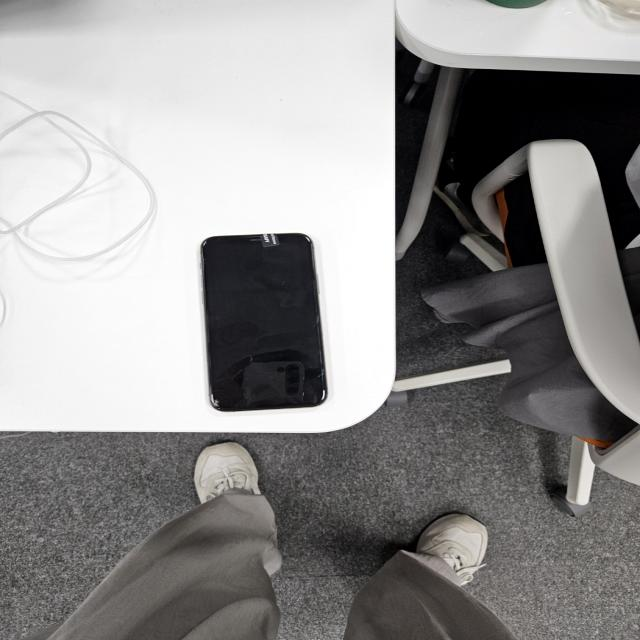phone: (200, 232, 330, 413)
sticker: (260, 234, 280, 247)
